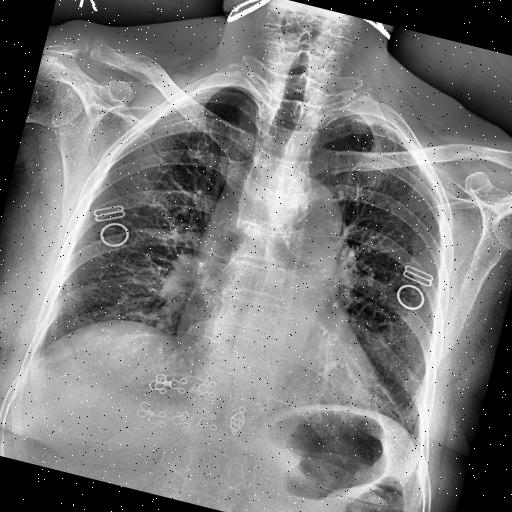0- Aortic enlargement: (254, 168, 356, 286), (250, 166, 354, 270), (258, 172, 354, 264)
11- Pleural thickening: (347, 108, 396, 132)
3- Cardiomegaly: (164, 301, 420, 434), (164, 306, 406, 428), (166, 308, 402, 426)
